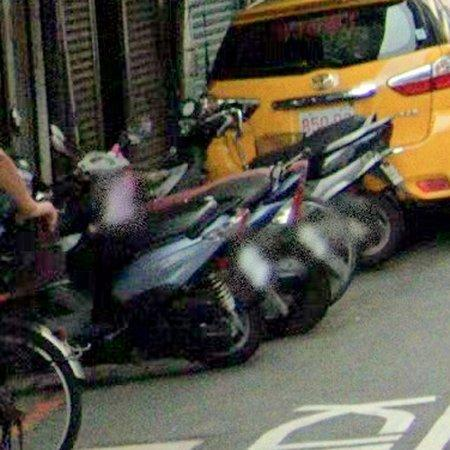taxis: (212, 0, 450, 201)
